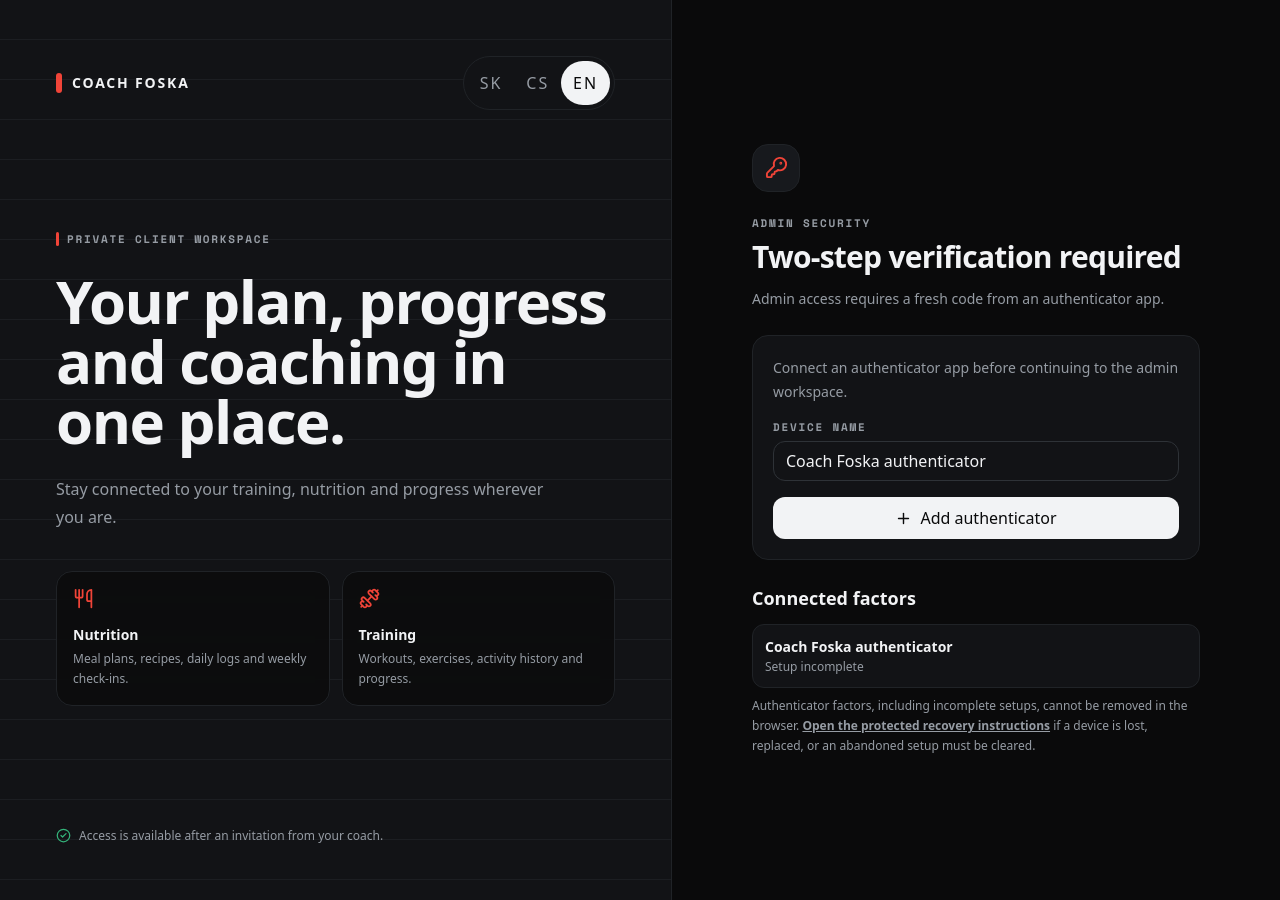
AdminMfa › turns a duplicate friendly-name enrollment into actionable device-name guidance
Expected: the field labelled "Device name" holds "Coach Foska authenticator", [773,441,1179,481]
Click the button "Add authenticator". click: (976, 518)
box: [773,497,1179,539]
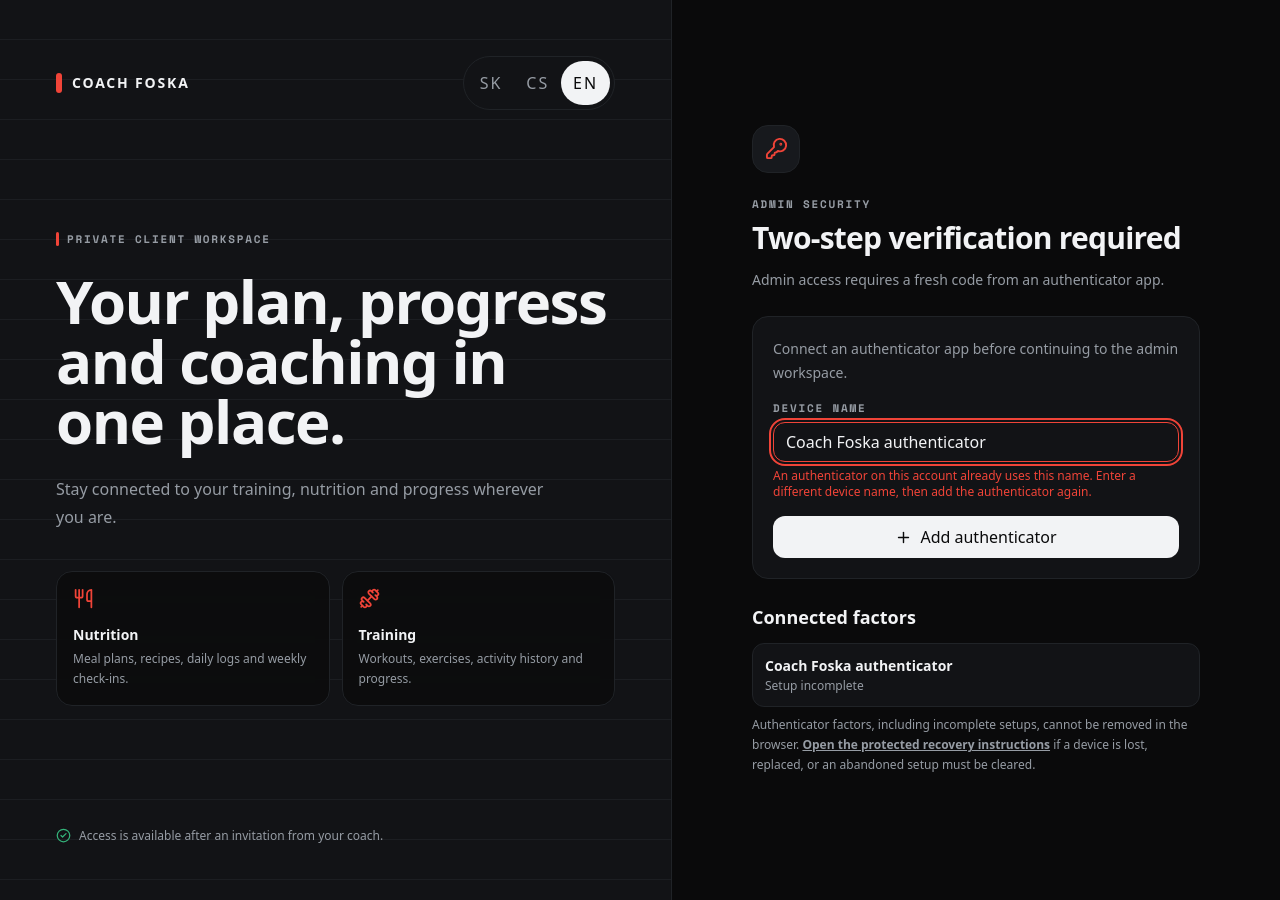
Expected: the text "enter a different device name" is shown, [773,467,1136,500]
Editing the name clears the guidance so the retry is not pre-blocked.
Type " 2" into the field labelled "Device name". click: (976, 442)
box: [773,422,1179,462]
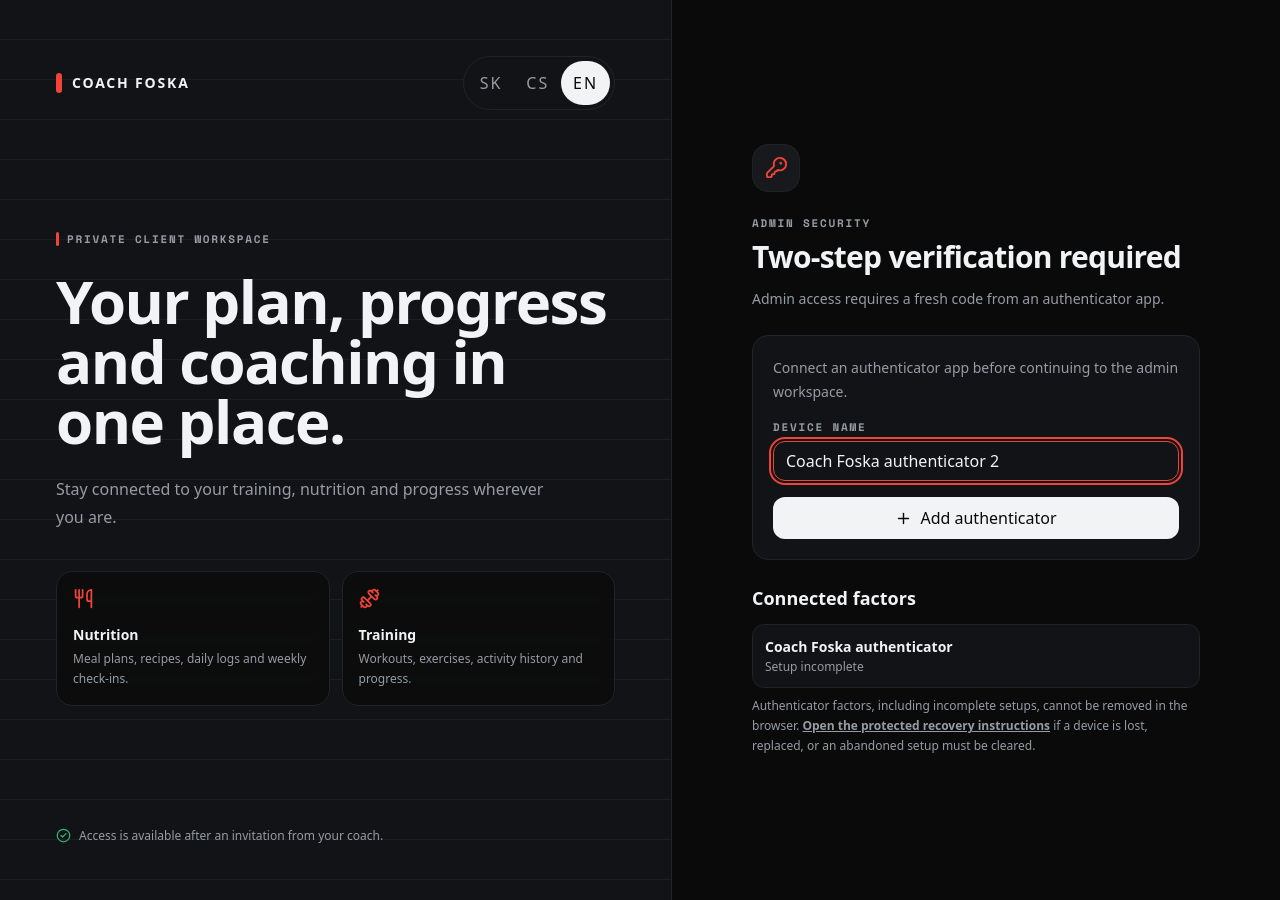
Expected: the text "enter a different device name" is gone
